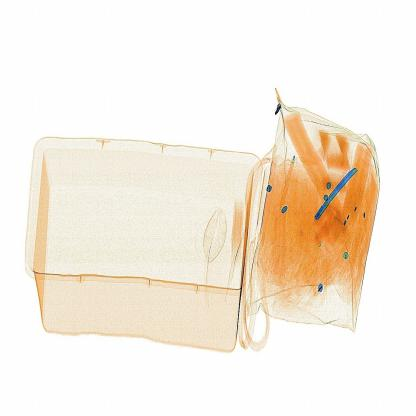pliers: (310, 160, 362, 229)
